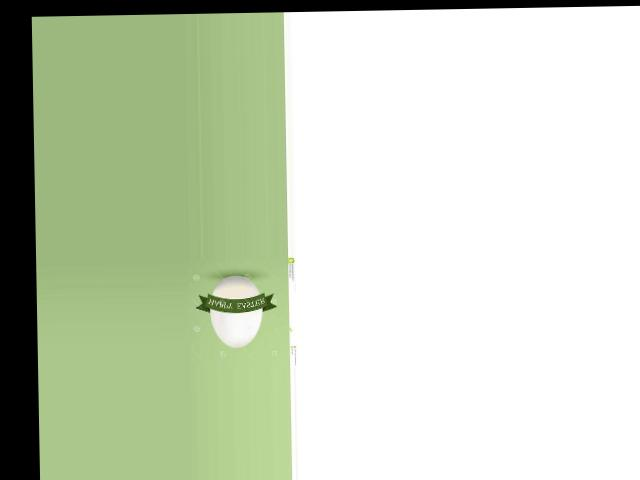egg: (210, 275, 263, 348)
